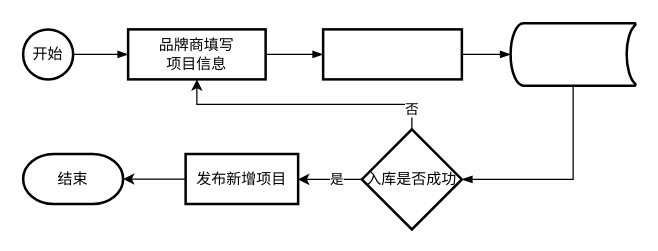
Image size: 658x251. Some labels were removed from this diagram. Here are the shapes that lost their labels. From the top down, the centre of each, then its label:
At (391,54): "提交项目信息".
At (572,53): "新增项目入库".
